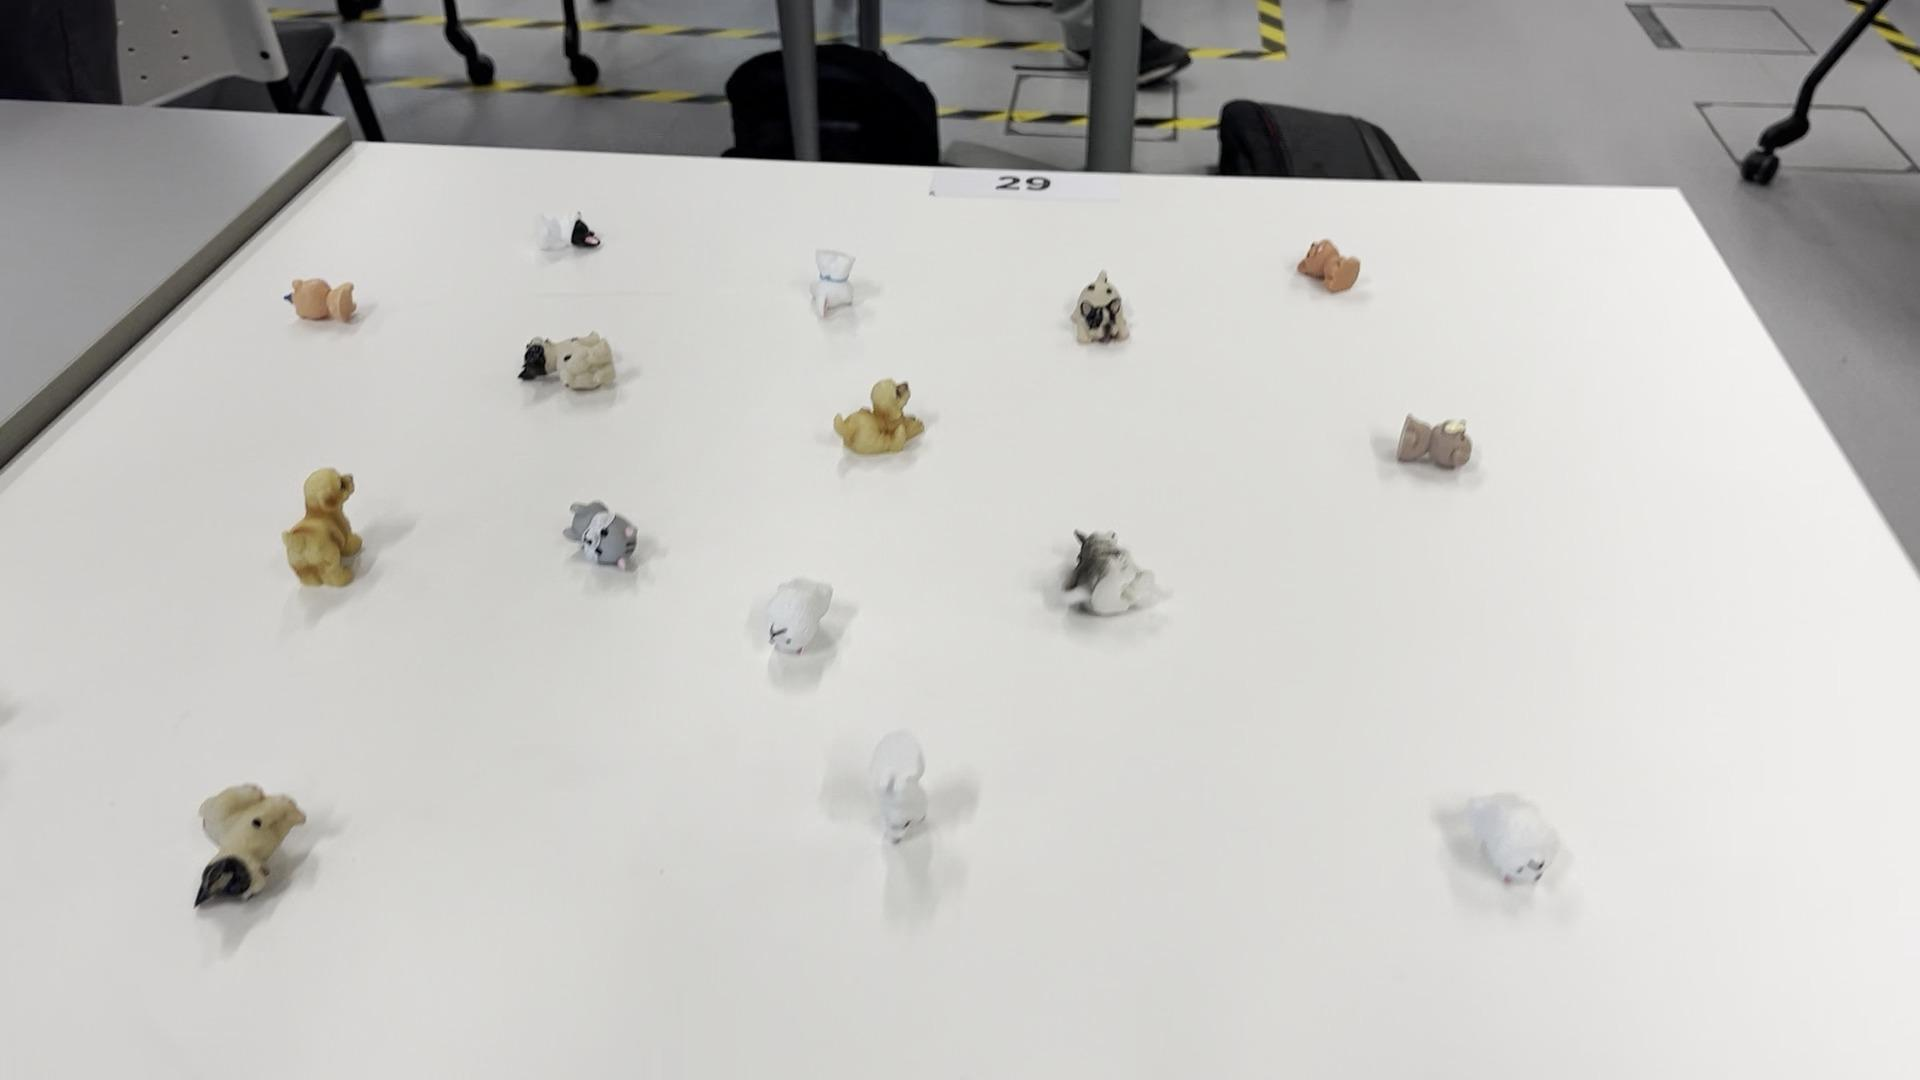pet: (1428, 782, 1596, 910), (196, 766, 318, 922), (287, 463, 369, 608), (761, 572, 856, 679), (835, 365, 936, 464), (1058, 529, 1171, 604), (562, 489, 651, 582), (514, 322, 618, 400), (874, 742, 943, 851), (795, 245, 865, 340), (278, 269, 372, 339), (527, 202, 608, 276), (1381, 409, 1481, 467), (1291, 236, 1369, 302), (1068, 269, 1129, 351)
